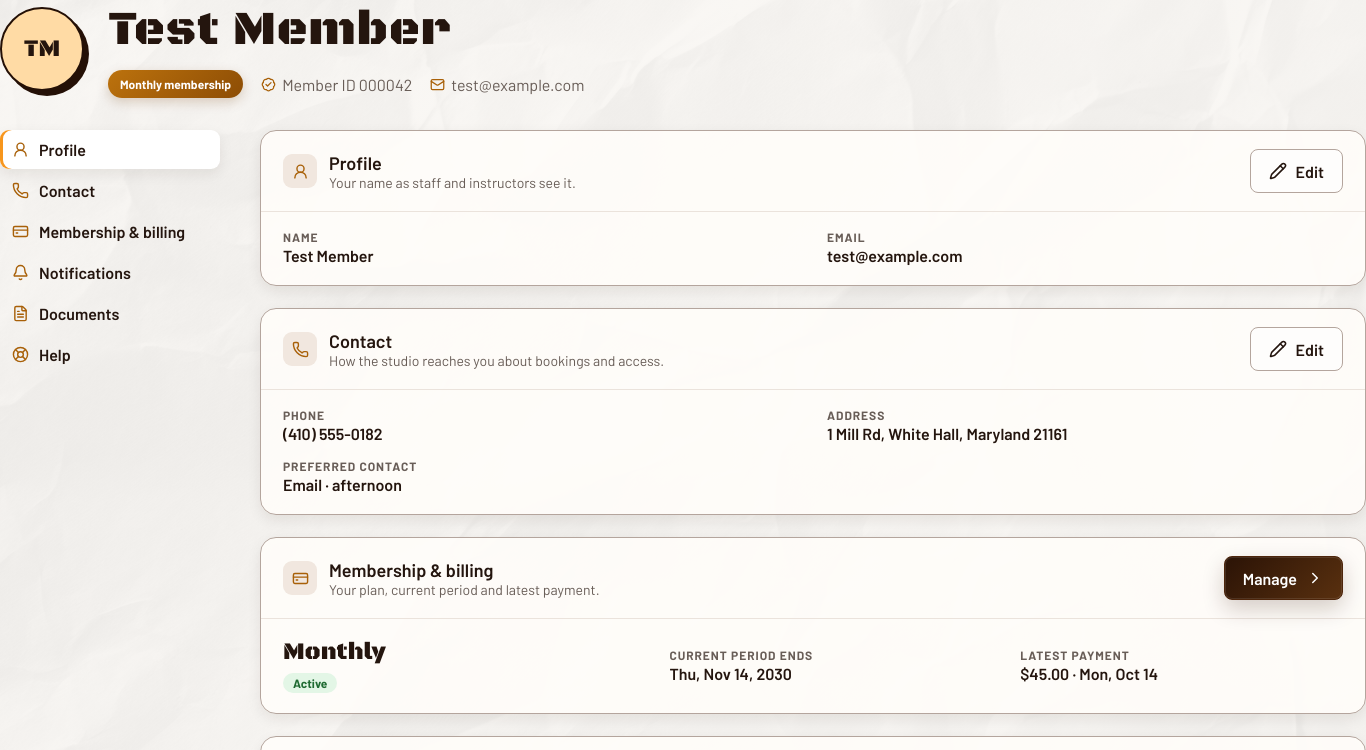
editing one section saves it with the other stored fields, including unshown keys, unchanged
Click the button with aria-label "Edit contact" at (1296, 349), box [1250,327,1343,371]
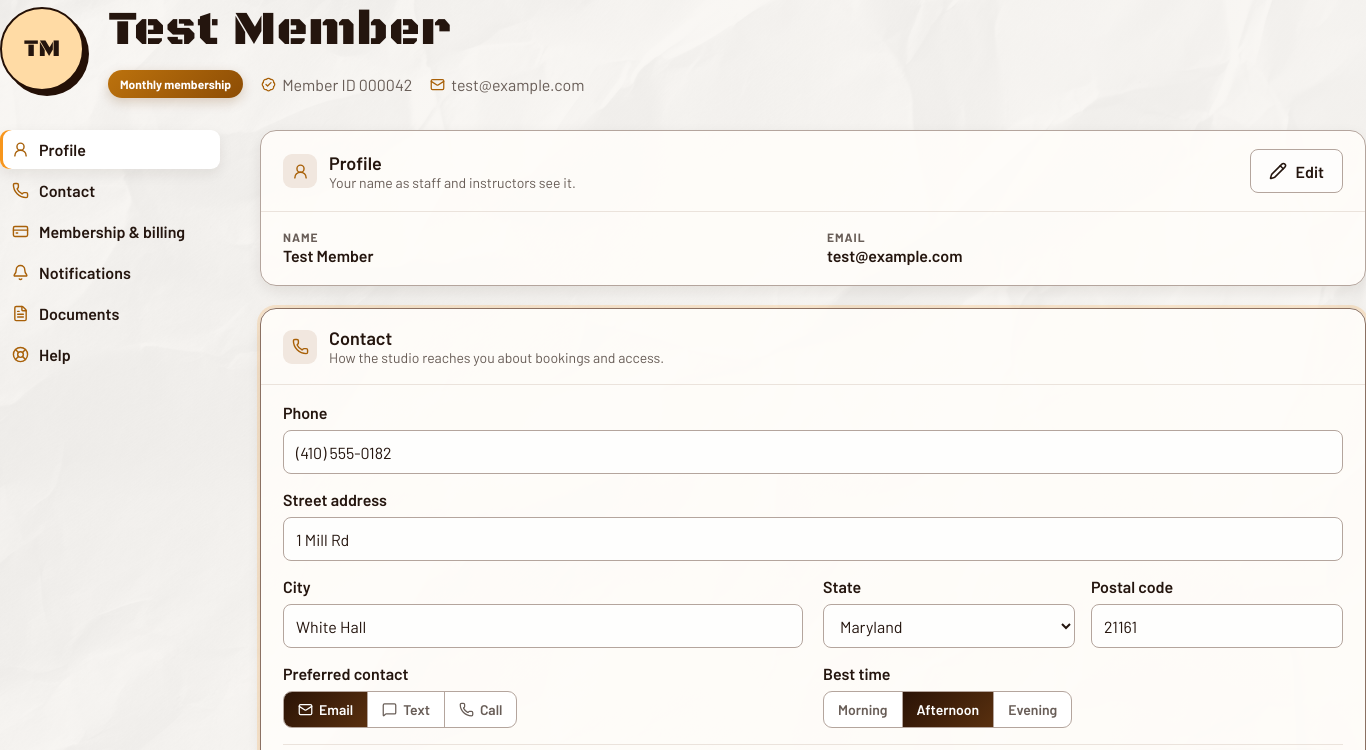
Type "(443) 555-0199" into the field labelled "Phone" at (813, 452), box [283,430,1343,474]
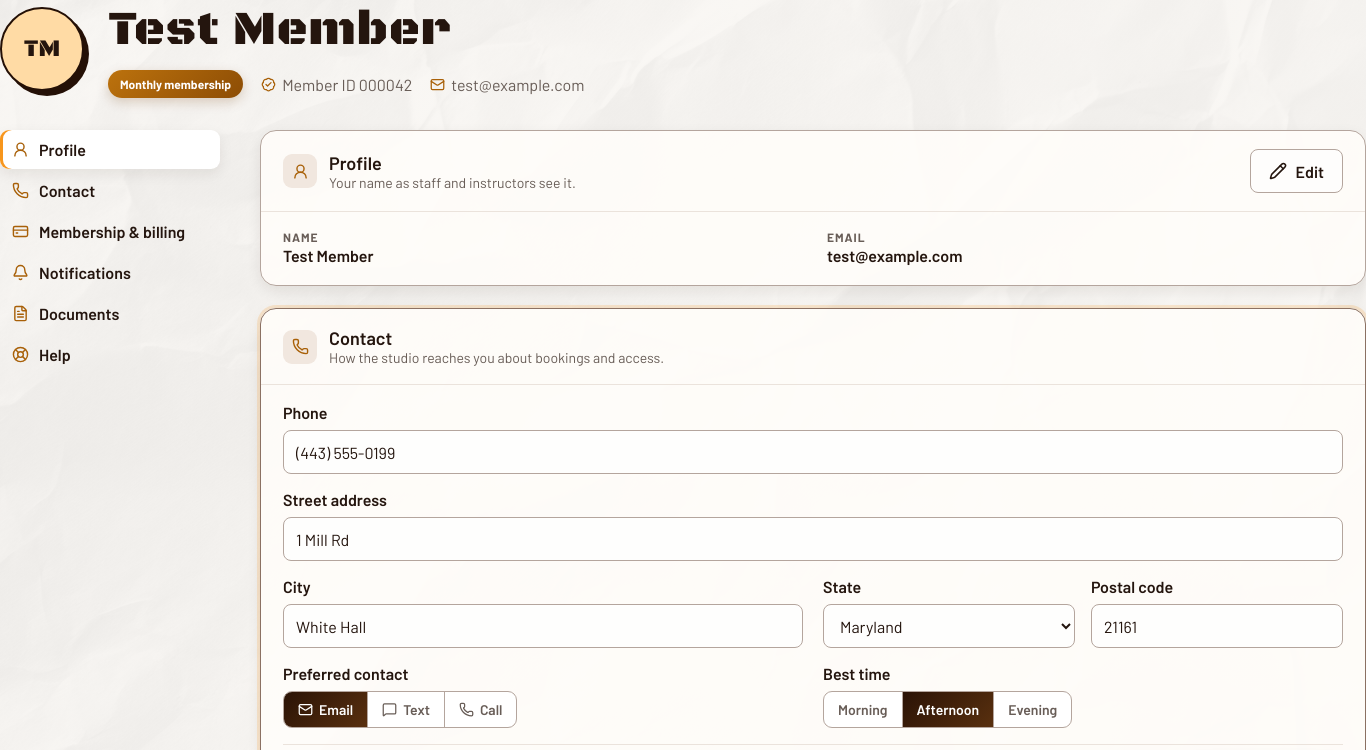
Click the radio button labelled "Text" at (406, 710), box [367,692,444,727]
(page scrolled)
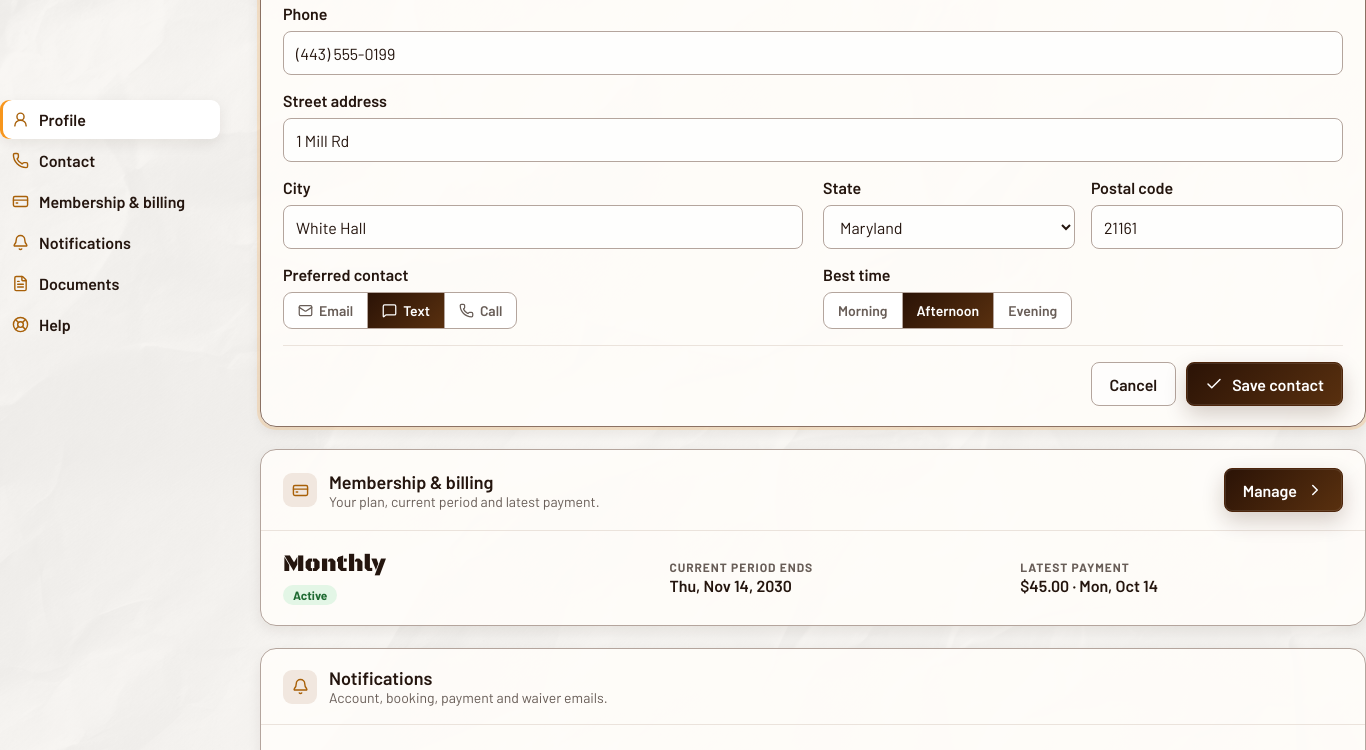
Click the button "Save contact" at (1265, 384), box [1186,362,1343,406]
(page scrolled)
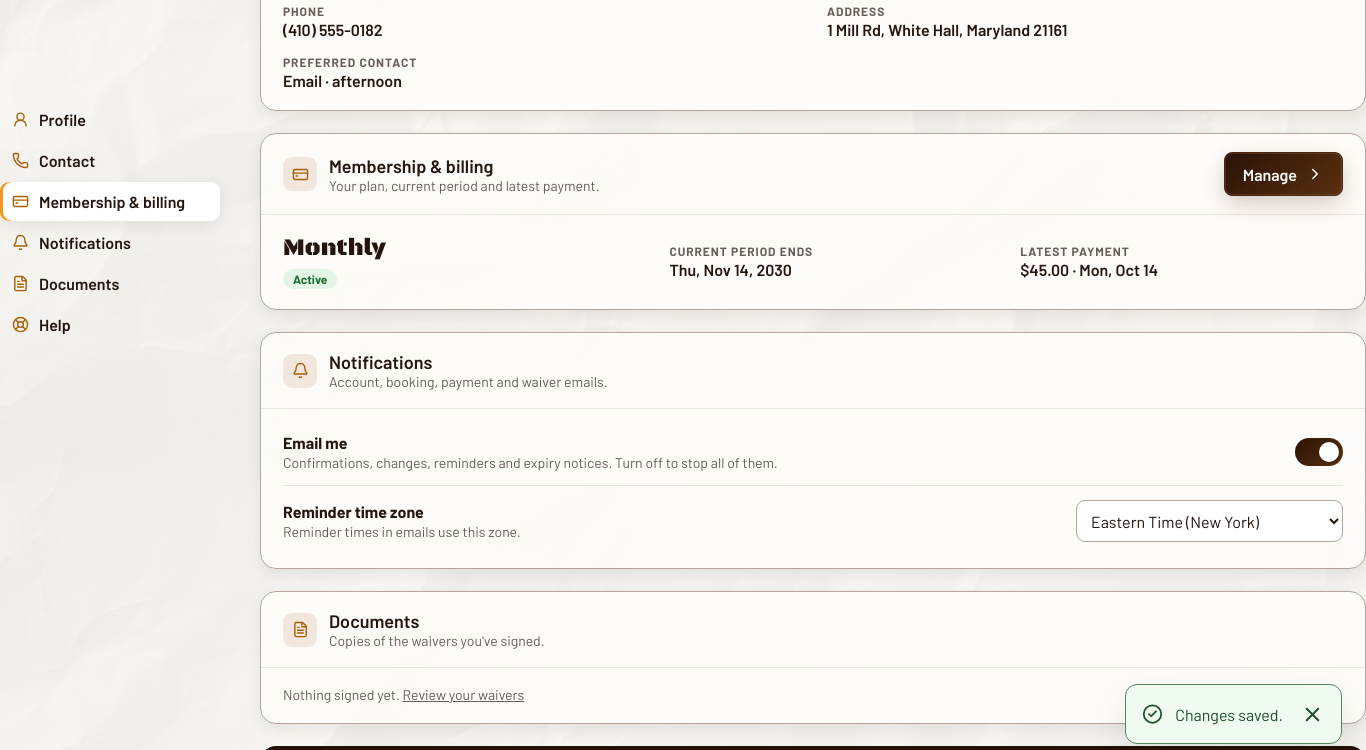
Now the text "Changes saved." is shown once, box [1175,704,1283,724]
Now the button "Save contact" is gone
